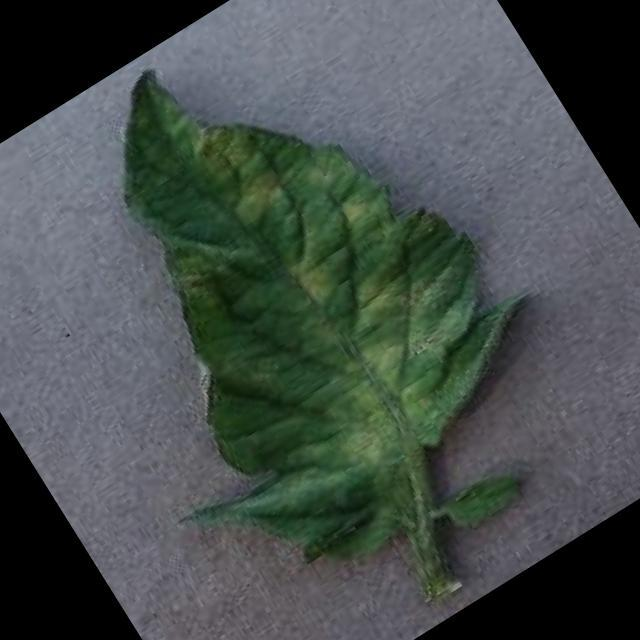Tomato mold leaf: (0, 0, 600, 636)
